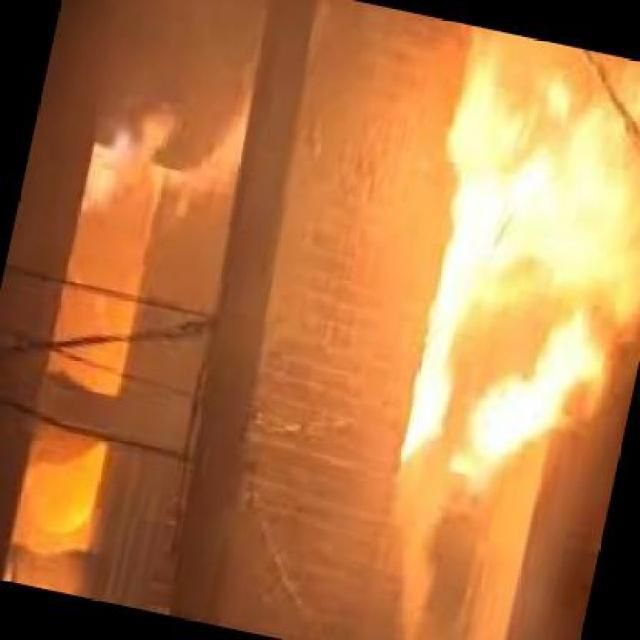Fire: (424, 42, 636, 504)
